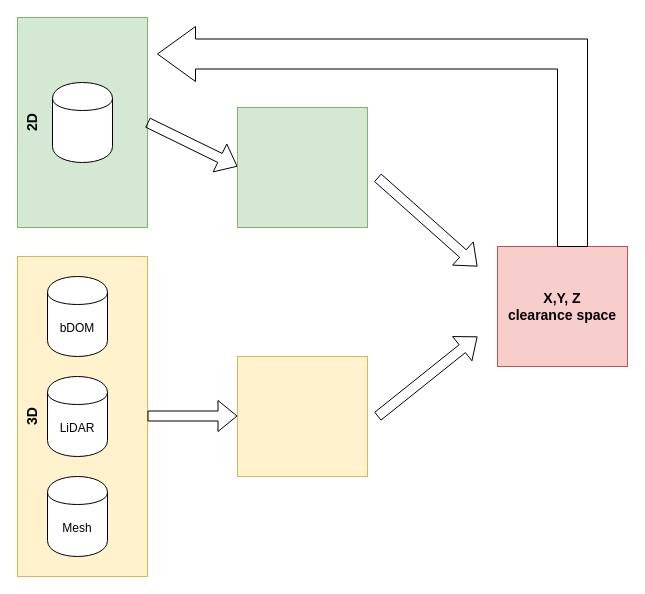
This 645x594 diagram has some shape labels left out. The shapes that lost their labels are listed below. From the top down, each one's centre as x and y in pixels, then its label:
the point at 82,122: ATKIS
the point at 302,167: X,Y location of: - bridge axis - underneath road axis
the point at 302,416: X, Y, Z information of: - bridge geometry - underneath road segment
